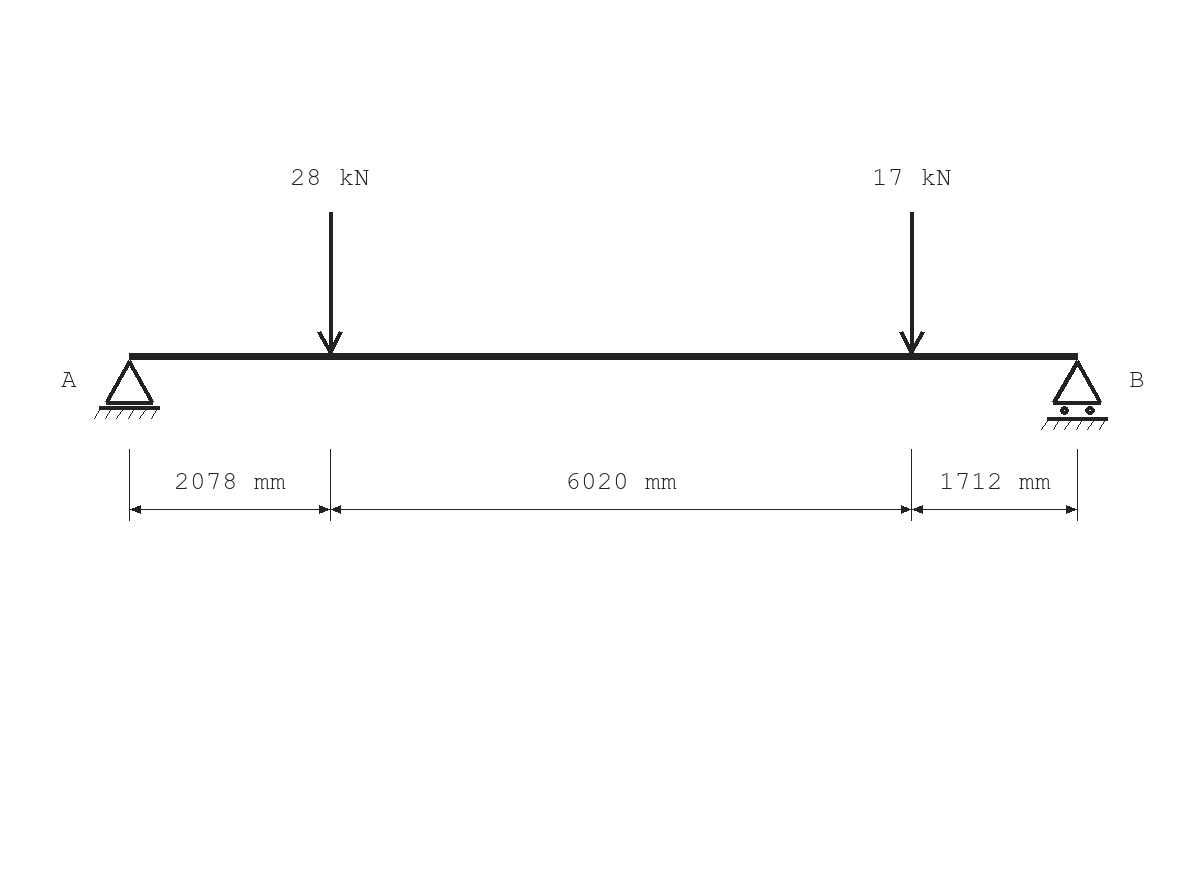pin_support: (94, 360, 160, 419)
point_load: (317, 212, 343, 354), (899, 212, 925, 354)
roller_support: (1041, 360, 1108, 430)
